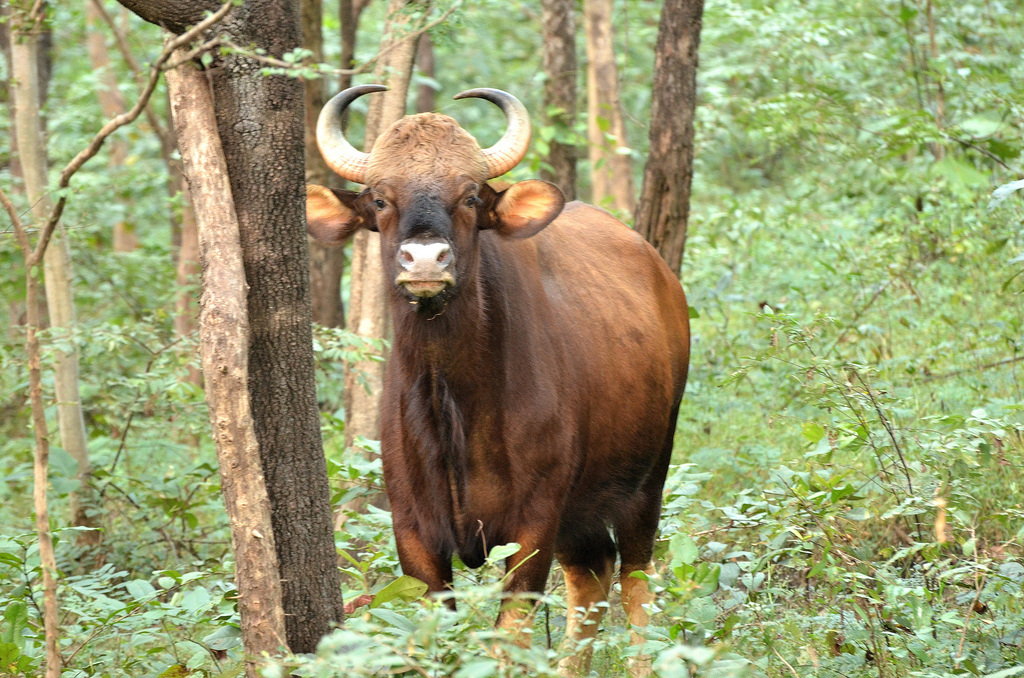bison: (305, 86, 690, 671)
